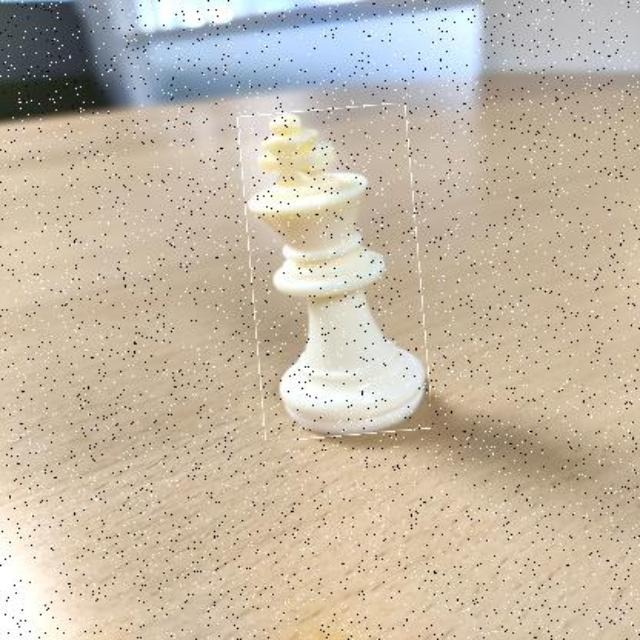white-king: (244, 106, 425, 438)
